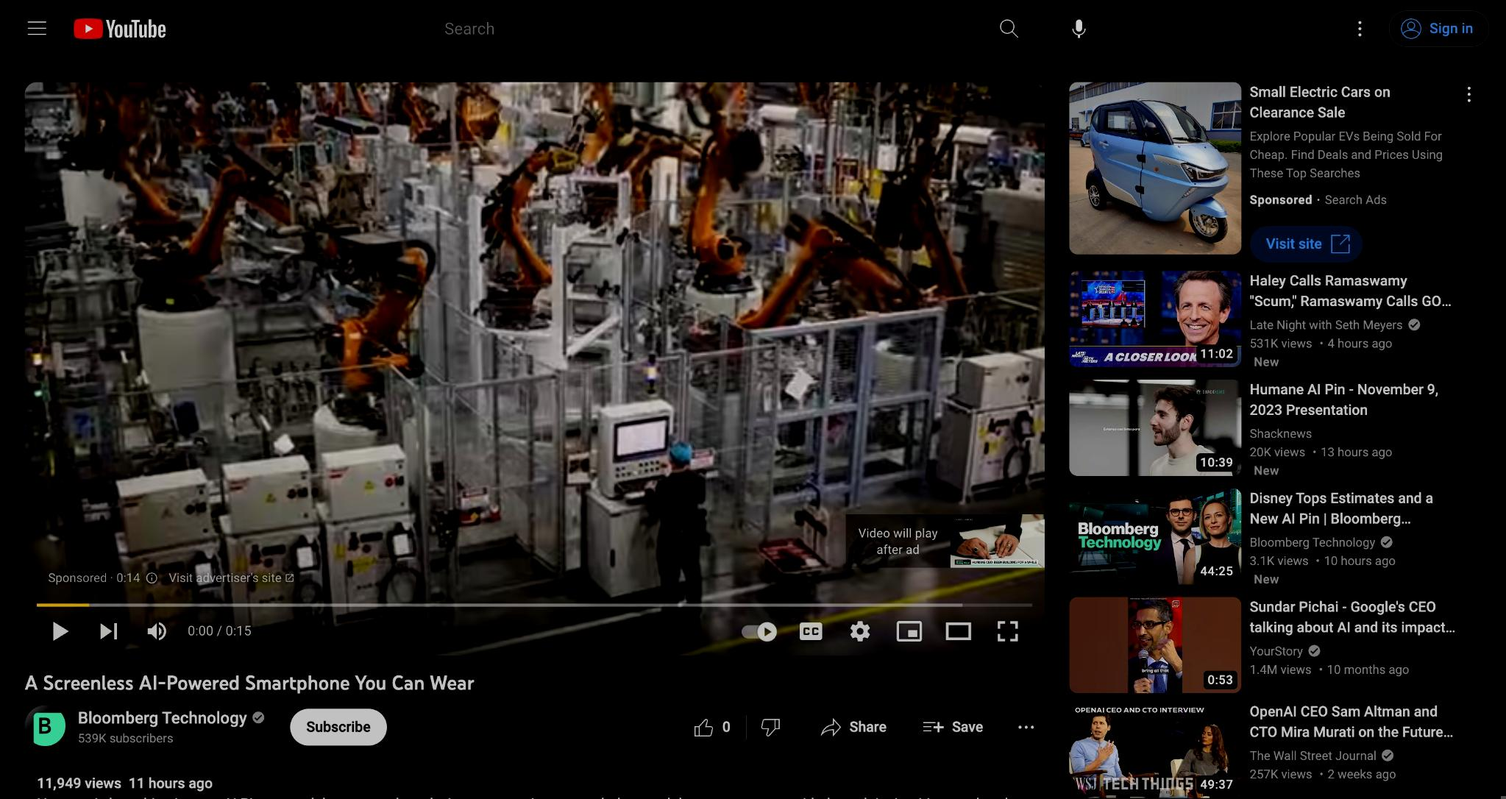webelement: (0, 56, 1505, 799), (24, 81, 1044, 655), (1083, 327, 1493, 799), (0, 0, 1505, 56), (1069, 81, 1241, 253), (1250, 270, 1456, 370), (1250, 379, 1456, 479), (1250, 488, 1456, 588), (1250, 596, 1456, 678), (1250, 701, 1456, 782), (1069, 487, 1241, 584), (1069, 596, 1241, 693), (1069, 270, 1241, 366), (1069, 379, 1241, 475), (1069, 701, 1241, 797), (445, 15, 972, 41), (845, 514, 1044, 567), (1250, 270, 1456, 311), (1250, 487, 1456, 528), (1250, 596, 1456, 637), (1250, 379, 1456, 419), (1250, 701, 1456, 741), (56, 0, 179, 56), (950, 514, 1044, 567), (1249, 224, 1363, 261), (36, 603, 1032, 607), (36, 795, 1028, 799), (77, 706, 247, 728), (1388, 10, 1489, 46), (289, 708, 386, 745), (809, 708, 903, 745), (77, 728, 260, 746), (911, 708, 999, 745), (977, 8, 1042, 48), (168, 568, 294, 588), (681, 708, 746, 745), (83, 606, 132, 655), (132, 606, 181, 655), (736, 606, 785, 655), (835, 606, 884, 655), (884, 606, 933, 655), (786, 606, 834, 655), (934, 606, 982, 655), (983, 606, 1031, 655), (36, 606, 83, 655), (747, 708, 800, 745), (47, 563, 113, 592), (127, 773, 219, 793), (36, 773, 127, 793), (1059, 8, 1100, 48), (24, 705, 64, 746), (1339, 8, 1379, 48), (1114, 526, 1195, 545), (1114, 635, 1195, 654), (1114, 309, 1195, 327), (1114, 418, 1195, 436), (1114, 740, 1195, 758), (1007, 708, 1044, 745), (1314, 662, 1408, 676), (1308, 444, 1392, 458), (1311, 553, 1395, 567), (1315, 766, 1396, 780), (306, 717, 370, 734), (1315, 336, 1392, 350), (1266, 235, 1322, 252), (187, 623, 250, 638), (1250, 336, 1312, 350), (1250, 766, 1312, 780), (1250, 662, 1311, 676), (1250, 553, 1308, 567), (80, 774, 127, 791), (1250, 444, 1305, 458), (1429, 19, 1473, 36), (1250, 193, 1312, 205), (116, 563, 140, 592), (849, 717, 886, 734), (1456, 81, 1481, 106), (1456, 487, 1481, 512), (1456, 596, 1481, 621), (1456, 270, 1481, 294), (1456, 379, 1481, 403), (1456, 701, 1481, 725), (24, 16, 48, 40), (1347, 16, 1371, 40), (952, 717, 983, 734), (1200, 347, 1232, 359), (1200, 455, 1232, 467), (1200, 564, 1232, 576), (145, 563, 158, 592), (187, 623, 212, 638), (225, 623, 250, 638), (1200, 778, 1232, 789), (1254, 354, 1279, 368), (1254, 463, 1279, 477), (1254, 571, 1279, 585), (1207, 673, 1232, 685), (1376, 748, 1395, 762), (246, 709, 264, 723), (1402, 317, 1420, 331), (1303, 643, 1321, 657), (1375, 535, 1394, 548), (213, 623, 224, 638)
